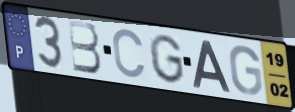3: (33, 14, 64, 70)
A: (191, 38, 233, 94)
B: (66, 18, 104, 76)
C: (111, 27, 148, 80)
G: (147, 33, 187, 86), (228, 44, 265, 97)
